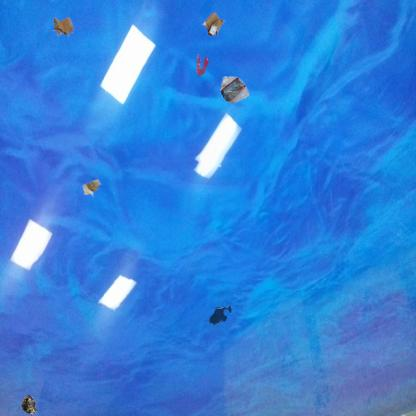dirty: (219, 75, 250, 105), (200, 10, 226, 37), (51, 16, 76, 38), (80, 178, 104, 198), (20, 394, 40, 416)
liquid: (207, 305, 233, 325), (195, 53, 210, 76)
